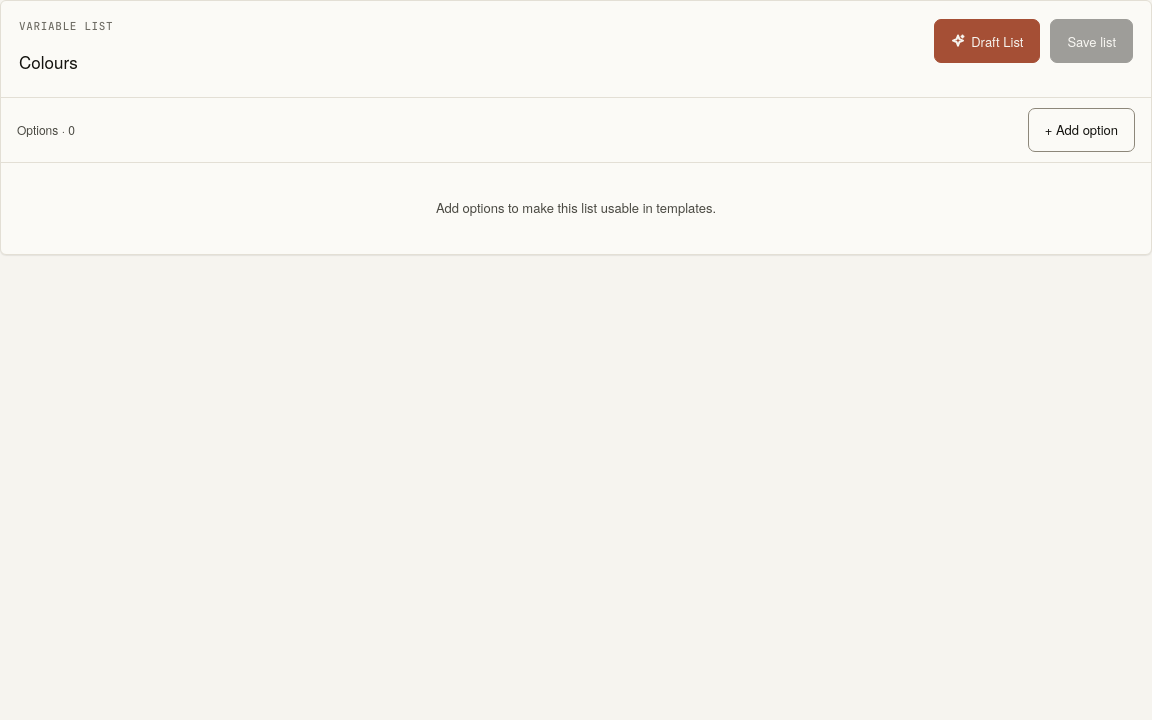
Test: ListEditor — AI Draft List › seed description submit appends entries and closes the dialog
This screenshot has width=1152, height=720.
Step 1. Click the button "Draft List" → (987, 41), box [934,19,1040,63]
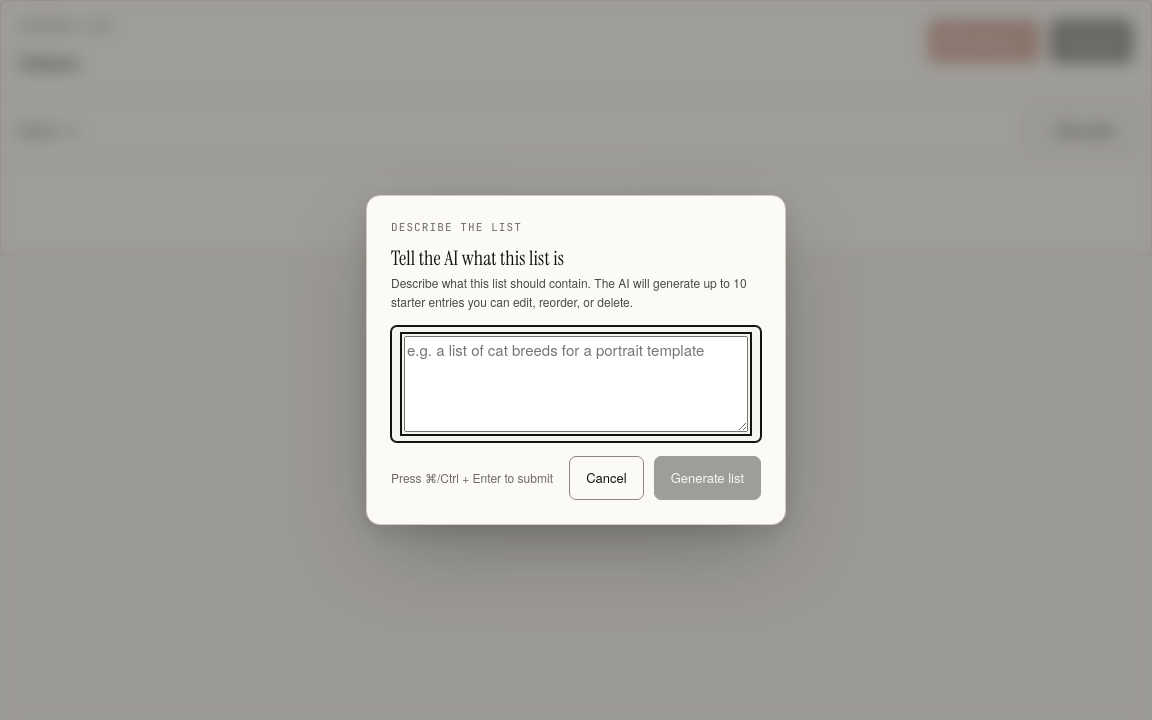
Step 2. Type "paint colours" into the text box named "list description" → (576, 384), box [404,336,748,432]
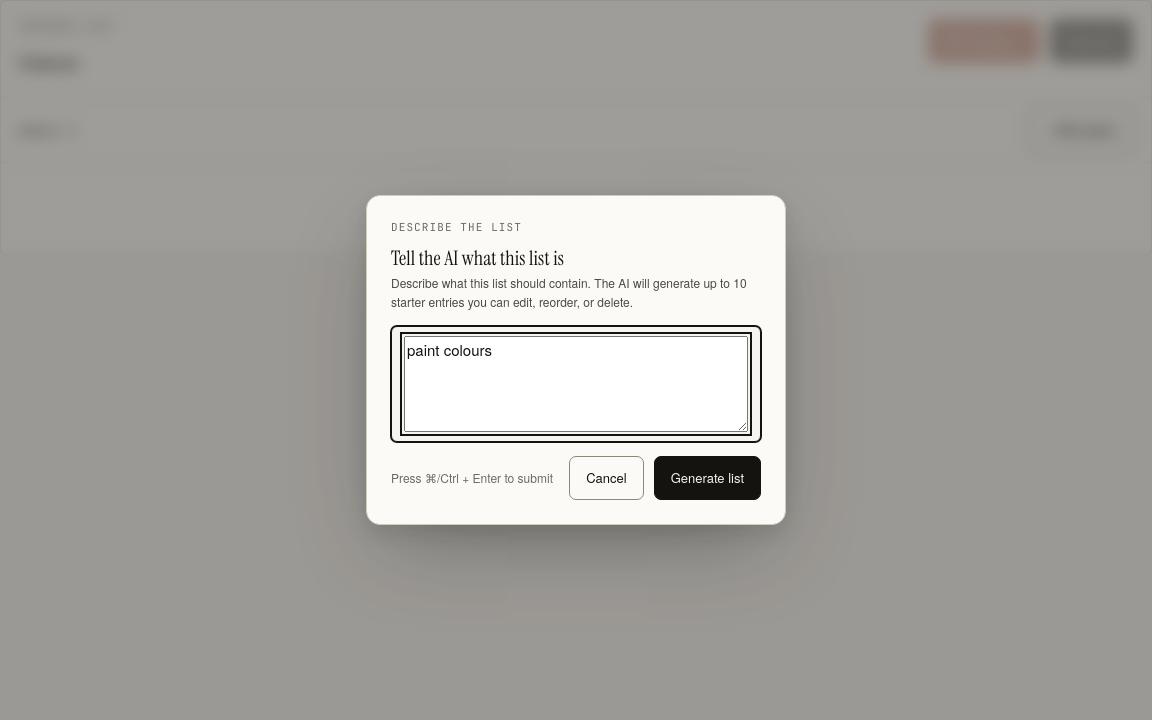
Step 3. Click the button "Generate list" → (707, 478), box [654,456,761,500]
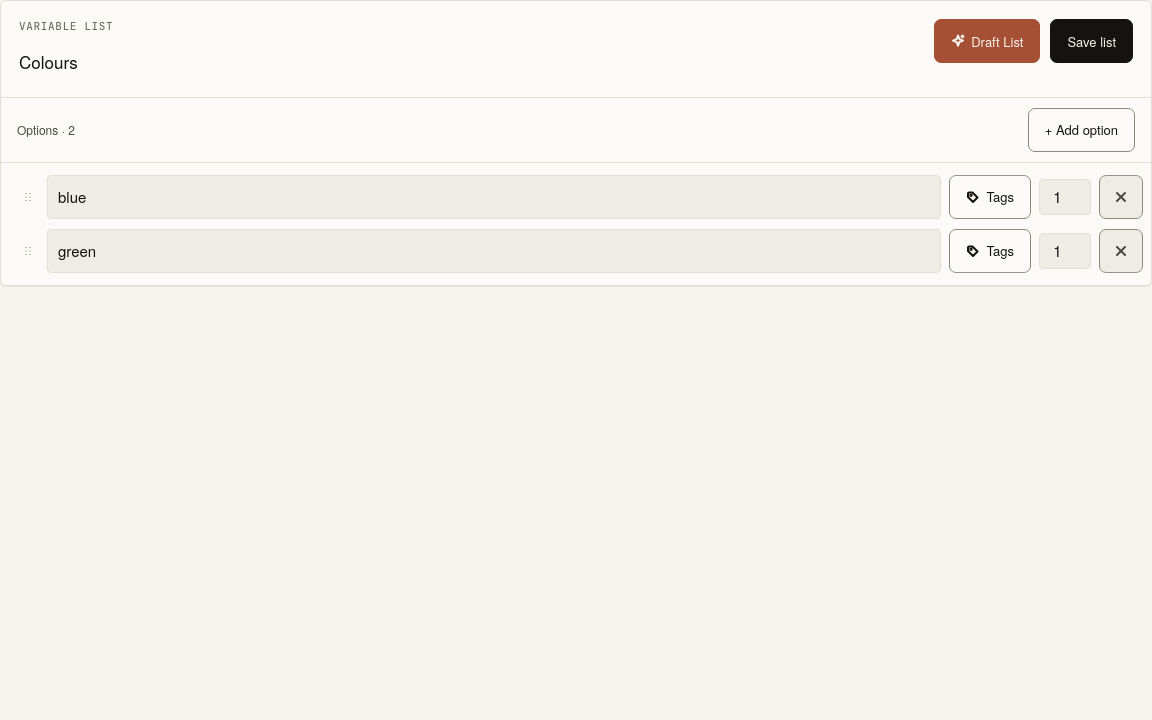
Check: the field showing "blue" is shown, box [47,175,941,219]
Check: the field showing "green" is shown, box [47,229,941,273]
Check: the dialog is gone
